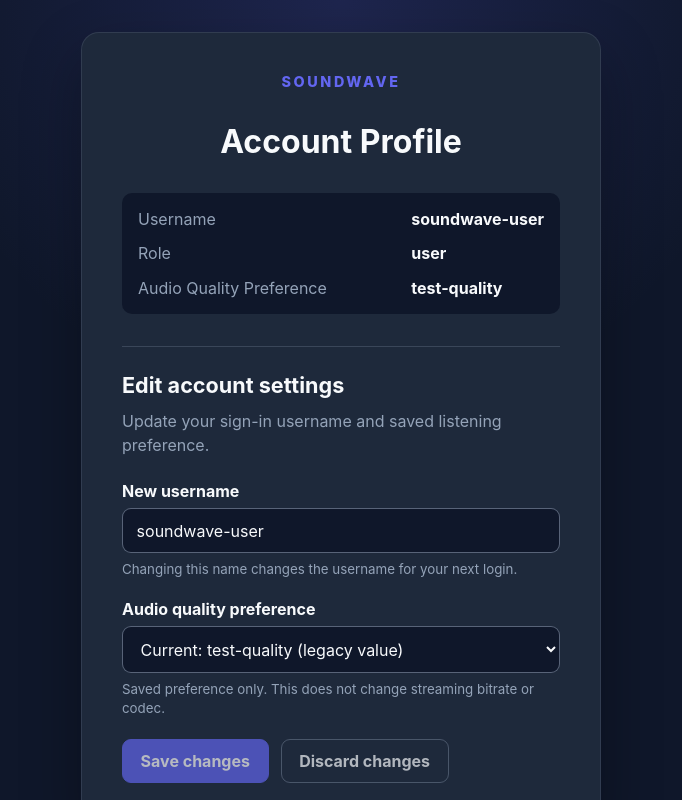
Test: SCRUM-359 profile editor › keeps a legacy preference visible without sending it on username-only updates
Expected: the dropdown labelled "Audio quality preference" shows "Current: test-quality (legacy value)", [122, 626, 560, 673]
Replace the text in the field labelled "New username" with "new-user". click: (341, 531)
box: [122, 508, 560, 553]
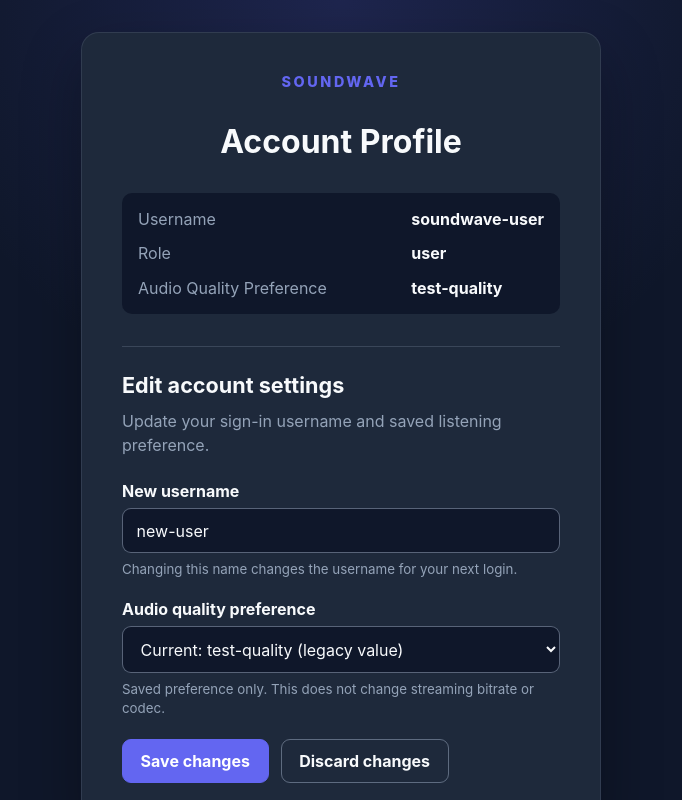
Click the button "Save changes". click: (195, 761)
box: [122, 739, 268, 783]
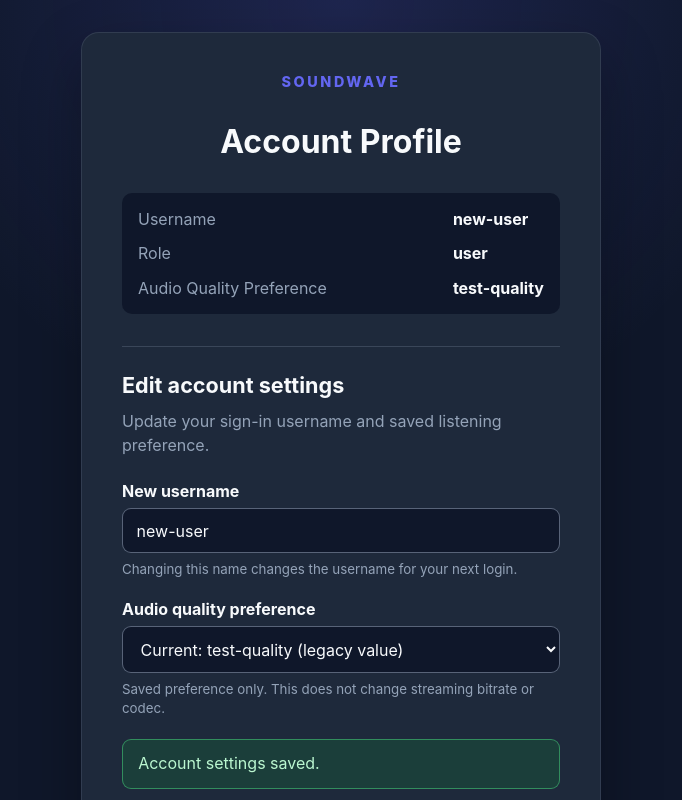
Now the message "Account settings saved." is shown, box [122, 739, 560, 790]
